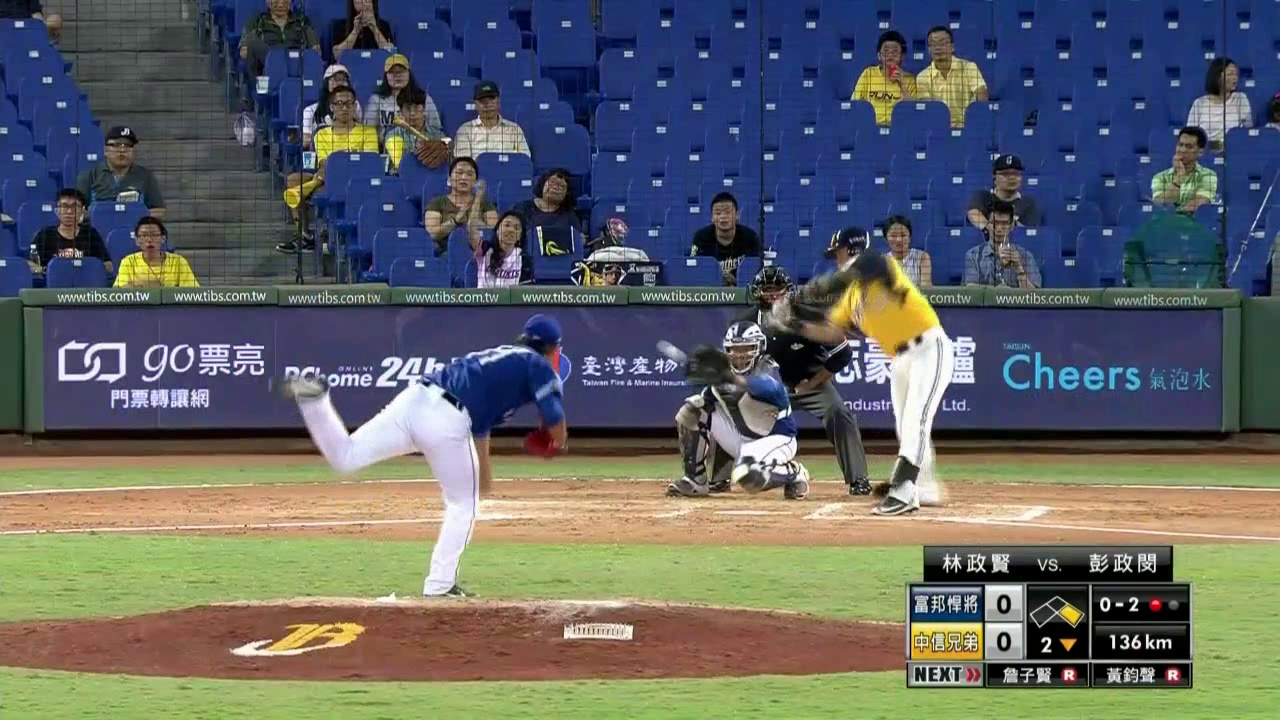ball: (661, 342, 681, 362)
base: (1029, 592, 1086, 629)
out: (1144, 587, 1186, 617)
score1: (986, 588, 1019, 617)
score2: (987, 623, 1023, 656)
session: (1028, 630, 1088, 659)
speed: (1096, 631, 1186, 660)
strikeball: (1094, 588, 1144, 619)
